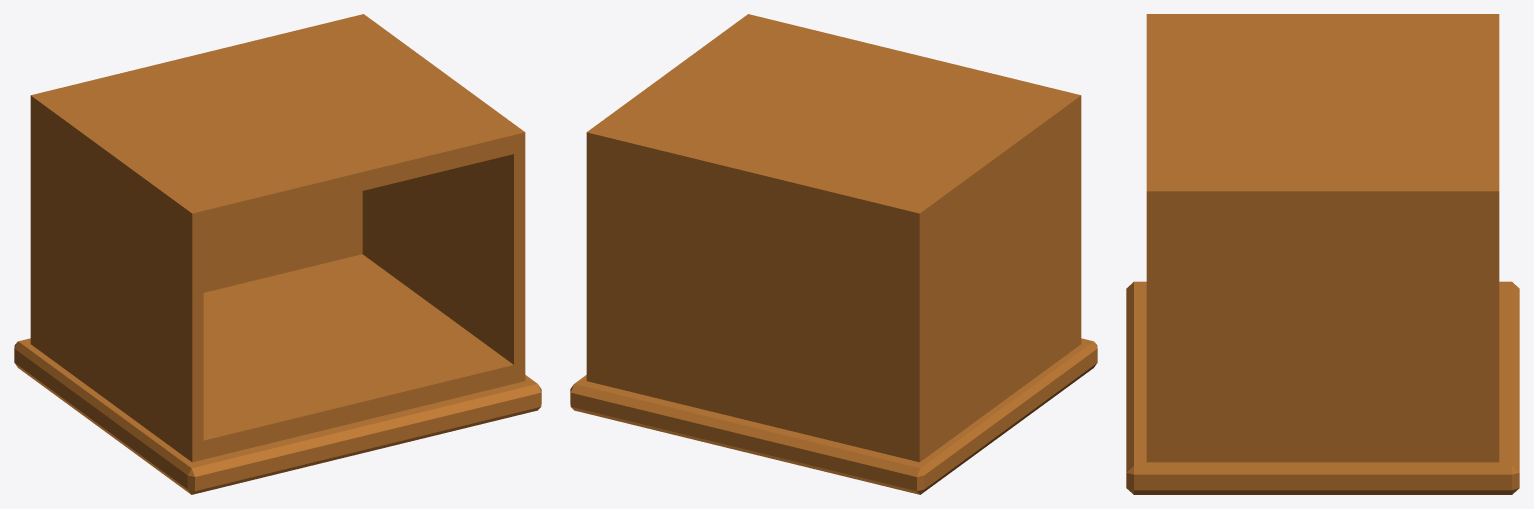
File: DrawermeshFp210_Cube_973_1.obj
The picture shows the model from 3 angles, left to right: view 1: azimuth 30°, elevation 25°; view 2: azimuth 150°, elevation 25°; view 3: azimuth 270°, elevation 25°; orthographic projection. The views are drawn at different scales.
Parts seen in each view (by area): view 1: Fp210_Cube_973; view 2: Fp210_Cube_973; view 3: Fp210_Cube_973.
Boxes of the visible parts, x1,y1,x2,y2 form: Fp210_Cube_973: (14, 14, 541, 494); Fp210_Cube_973: (570, 14, 1097, 494); Fp210_Cube_973: (1126, 14, 1519, 494).
Bounding box in the file's own units: 0.4195 × 0.3121 × 0.3704.
